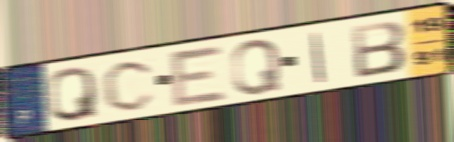B: (349, 18, 409, 80)
C: (100, 57, 158, 113)
E: (167, 43, 230, 108)
I: (309, 30, 327, 85)
Q: (229, 37, 284, 97), (47, 64, 100, 123)
